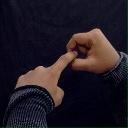hand: (14, 49, 78, 107), (65, 27, 120, 74)
